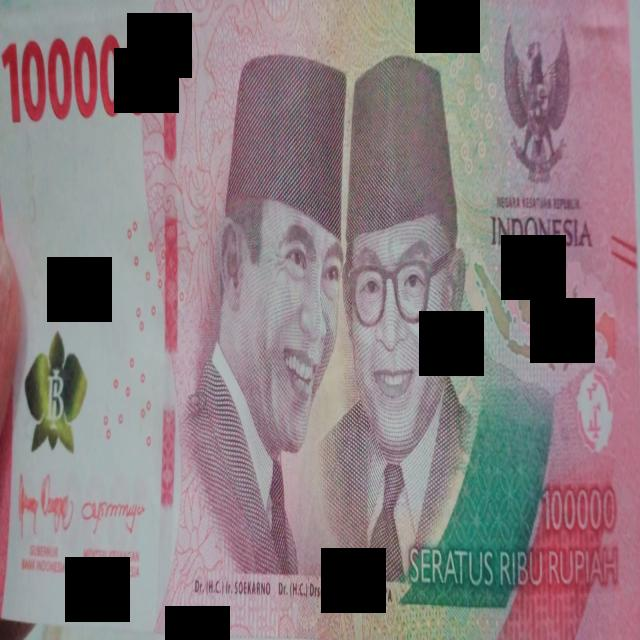seratusribu rupiah: (0, 0, 640, 636)
